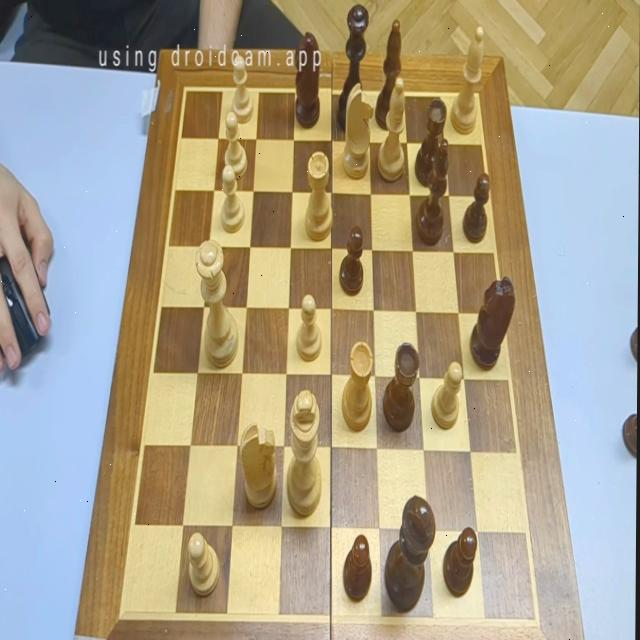black_bishop: (417, 140, 450, 242), (375, 19, 404, 127)
black_king: (386, 494, 437, 612)
black_knight: (470, 276, 516, 371), (294, 31, 321, 129)
black_pawn: (441, 526, 481, 598), (343, 532, 373, 604), (463, 171, 491, 245), (340, 226, 365, 296)
black_queen: (338, 3, 369, 132)
black_rook: (383, 342, 420, 434), (414, 95, 447, 187)
white_bishop: (451, 25, 485, 135), (380, 75, 408, 182)
white_king: (287, 390, 324, 518)
white_knight: (240, 422, 279, 509), (342, 82, 374, 179)
white_pawn: (431, 362, 464, 432), (188, 530, 220, 597), (296, 294, 323, 360), (221, 165, 245, 233), (224, 111, 248, 178), (232, 55, 255, 124)
white_queen: (195, 238, 240, 372)
white_rook: (341, 339, 374, 433), (305, 150, 334, 242)
